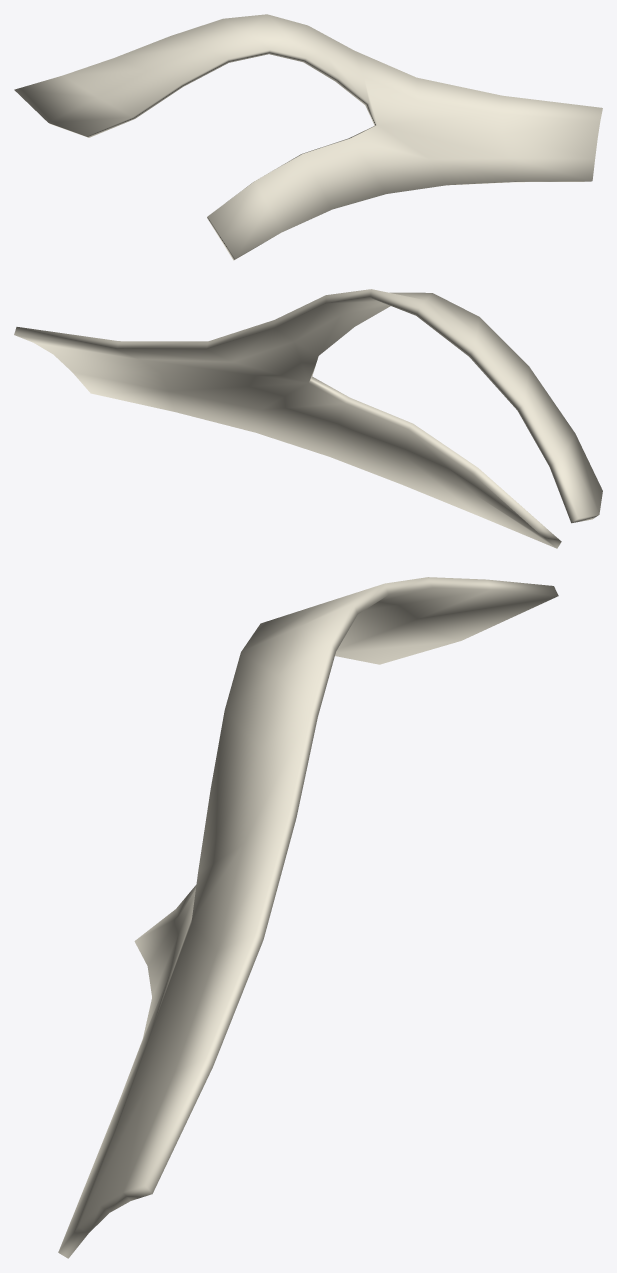
3 views of the same model, one above another, from view 1: azimuth 30°, elevation 25°; view 2: azimuth 150°, elevation 25°; view 3: azimuth 270°, elevation 25° (orthographic). The views are drawn at different scales.
Parts seen in each view (by area): view 1: ZA_e15e0b7074965e28; view 2: ZA_e15e0b7074965e28; view 3: ZA_e15e0b7074965e28.
Boxes of the visible parts, bbox=[...] form: ZA_e15e0b7074965e28: bbox=[14, 14, 602, 260]; ZA_e15e0b7074965e28: bbox=[14, 289, 602, 548]; ZA_e15e0b7074965e28: bbox=[58, 577, 558, 1258].
Bounding box in the file's own units: 0.0466 × 0.0177 × 0.0207.
